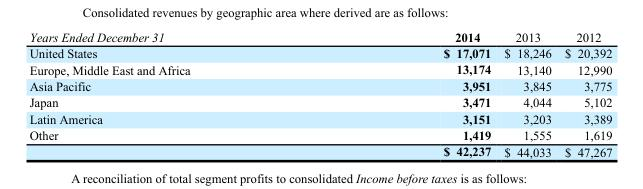table: (28, 29, 611, 158)
table column: (28, 29, 316, 158), (316, 29, 496, 158), (496, 29, 557, 158), (557, 29, 611, 158)
table column header: (28, 29, 611, 44)
table row: (28, 44, 611, 61), (28, 93, 611, 110), (28, 126, 611, 143), (28, 61, 611, 77), (28, 77, 611, 93), (28, 110, 611, 126), (28, 29, 611, 44), (28, 143, 611, 158)
